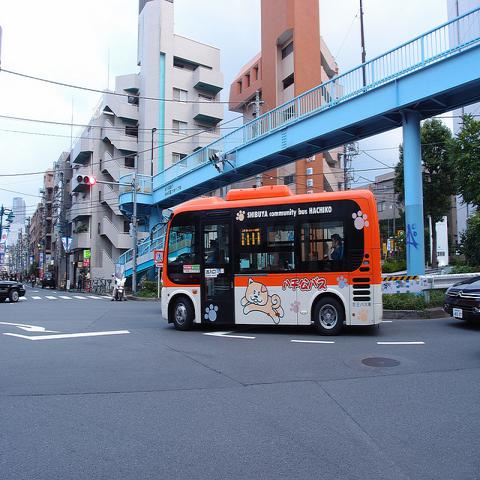bus: (161, 182, 384, 335)
car: (441, 275, 480, 324), (0, 278, 26, 302), (42, 272, 56, 290)
motorcycle: (114, 276, 128, 300)
